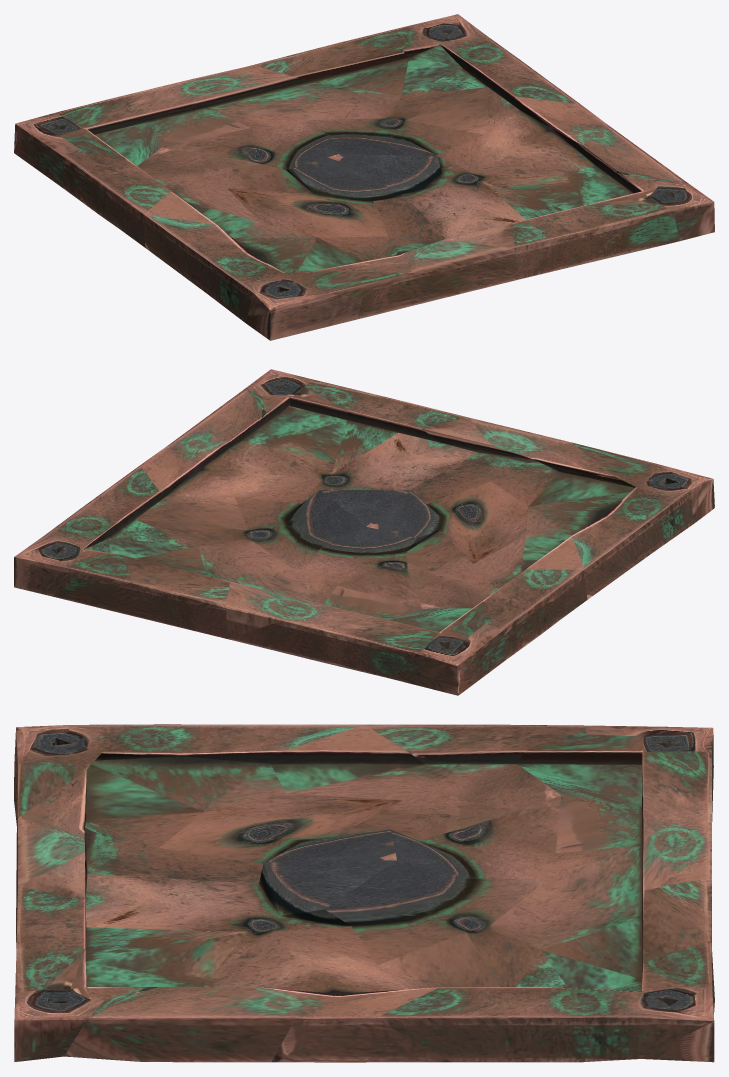
File: copper_plate_b.glb
3 views of the same model, one above another, from view 1: azimuth 30°, elevation 25°; view 2: azimuth 150°, elevation 25°; view 3: azimuth 270°, elevation 25° (orthographic). The views are drawn at different scales.
Parts seen in each view (by area): view 1: mesh_node; view 2: mesh_node; view 3: mesh_node.
Part boxes in pixels (box(x1,y1,x2,y2)): mesh_node: box(14, 14, 714, 340); mesh_node: box(14, 369, 714, 695); mesh_node: box(14, 724, 714, 1062).
Bounding box in the file's own units: 1.9 × 0.1486 × 1.9.
Materials: 1 (1 with a texture image).
